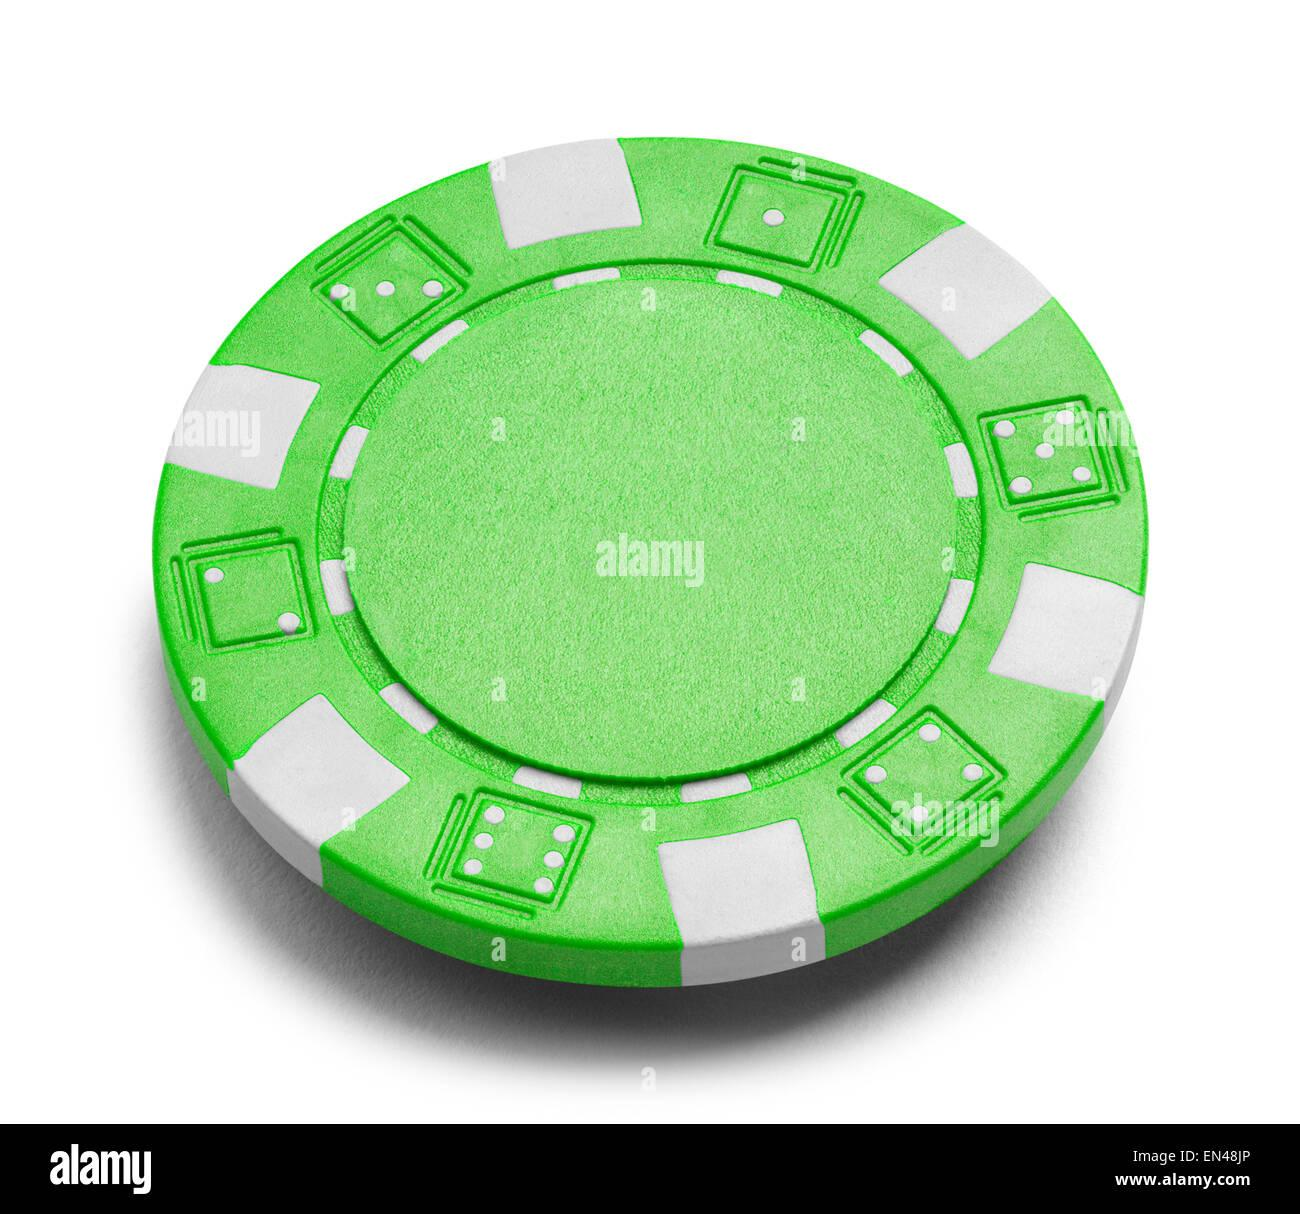chip-green: (155, 139, 1148, 985)
